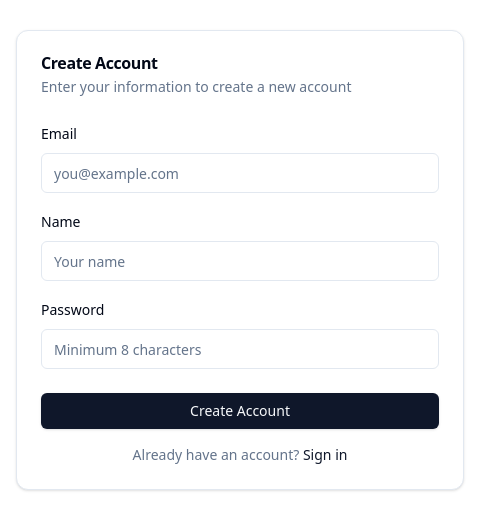
Test: RegisterPage - form interactions › error handling › should show email field error for 409 conflict
Type "exists@example.com" into the field with placeholder "you@example.com" at (240, 173), box [41,153,439,193]
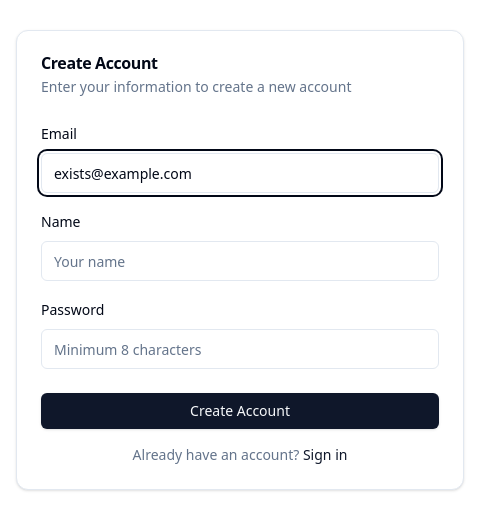
Type "Test User" into the field with placeholder "Your name" at (240, 261), box [41,241,439,281]
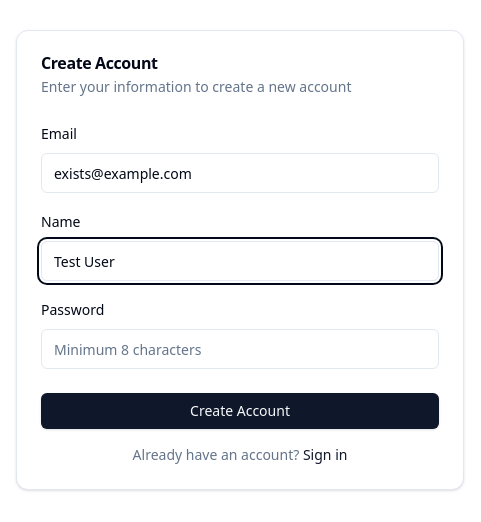
Type "Password123!" into the password field with placeholder "Minimum 8 characters" at (240, 349), box [41,329,439,369]
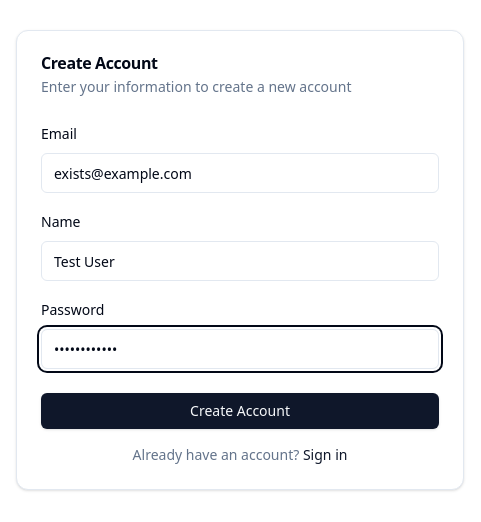
Click the submit button at (240, 411), box [41,393,439,429]
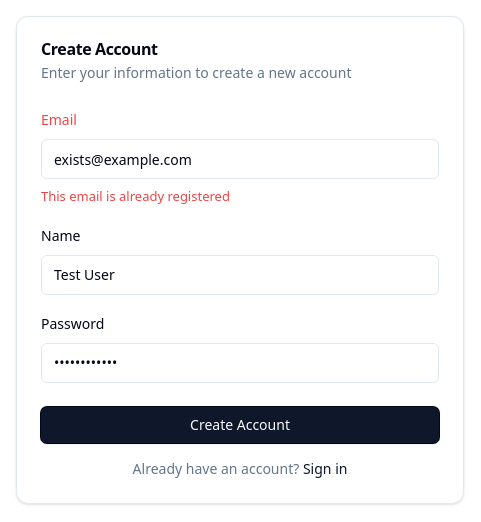
Now the text "already registered" is shown, box [41,187,230,205]
